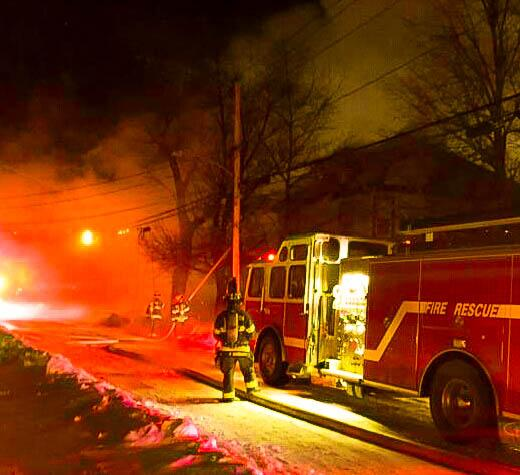Fire: (2, 241, 50, 331)
